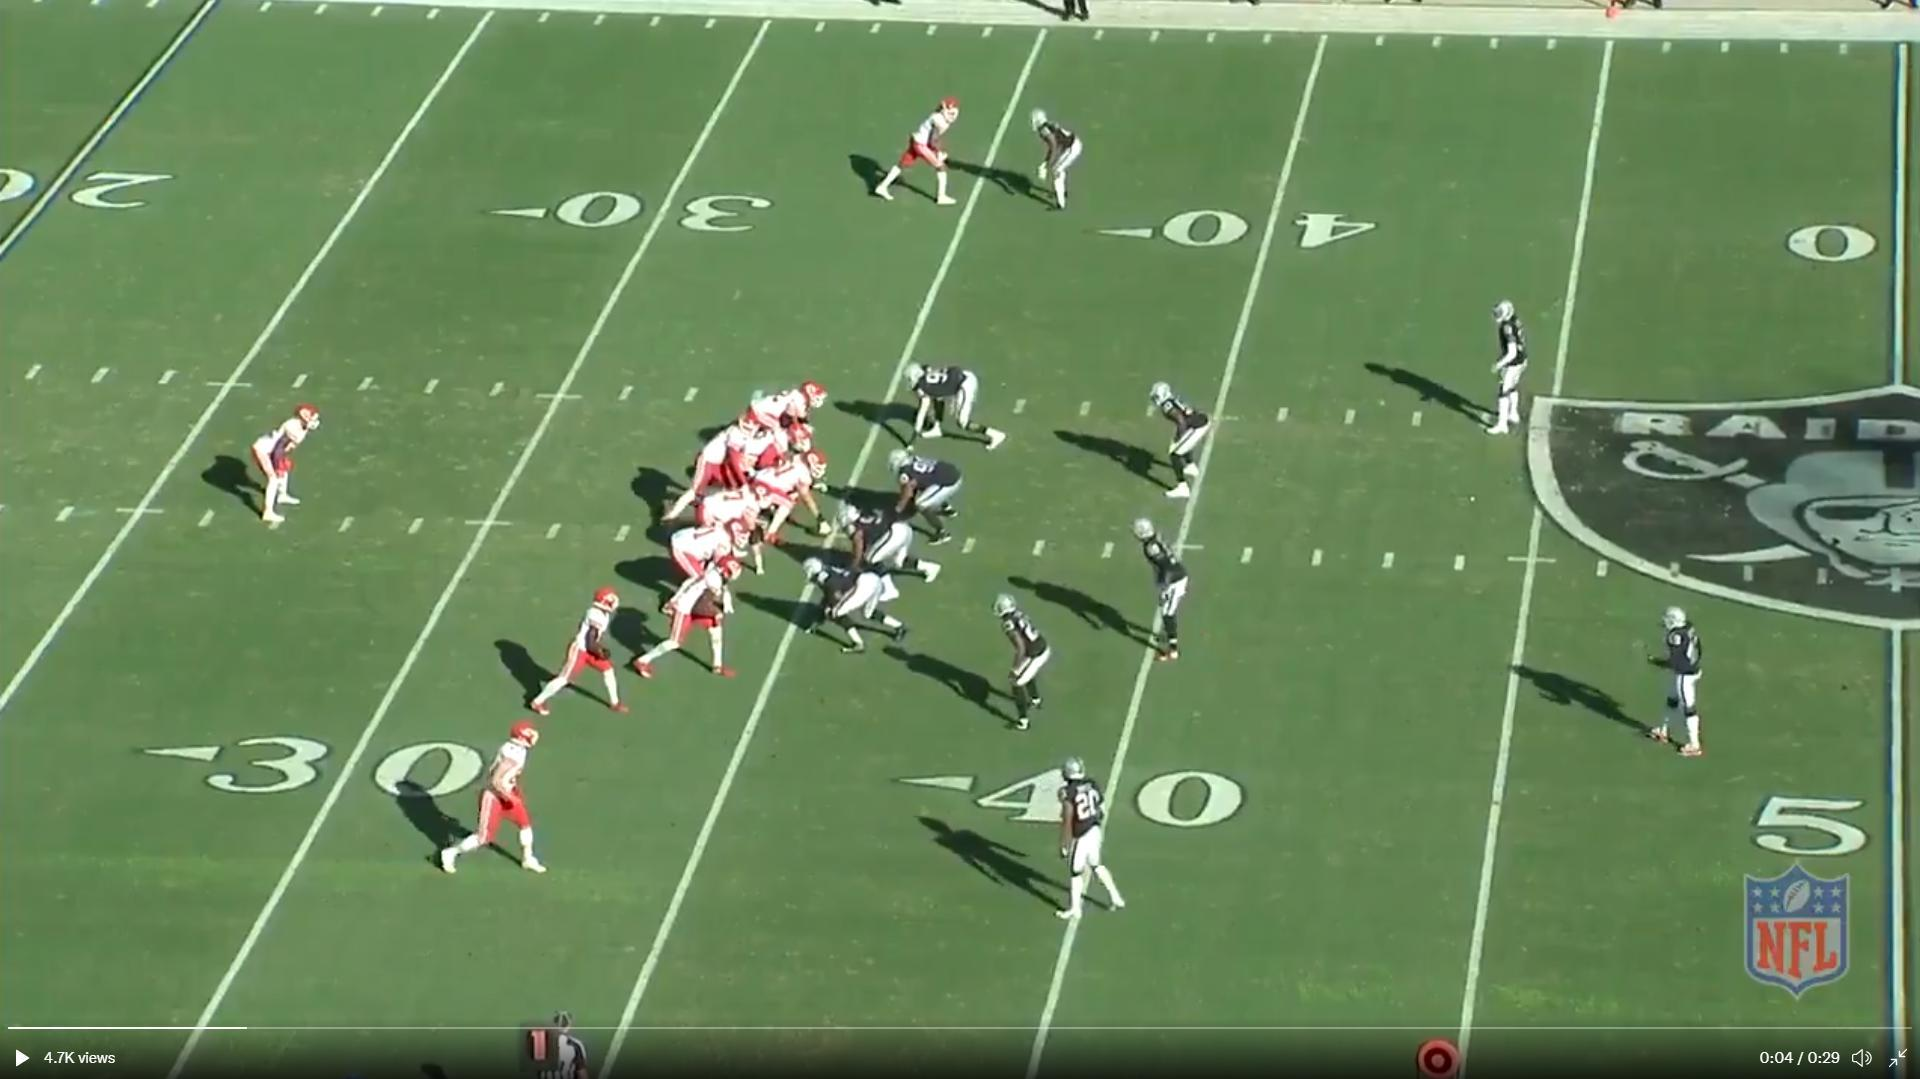defense: (1051, 751, 1133, 926), (802, 554, 916, 657), (1646, 605, 1712, 770), (831, 499, 939, 594), (902, 357, 1007, 454), (1135, 518, 1197, 673), (994, 588, 1058, 736), (1147, 376, 1212, 507), (1477, 298, 1532, 445), (881, 445, 961, 545), (1023, 103, 1087, 218)
oline: (752, 452, 841, 549), (699, 491, 778, 579), (749, 377, 833, 442), (663, 526, 746, 590), (745, 423, 810, 478)
qb: (670, 414, 753, 510), (712, 416, 762, 495)
ref: (535, 1025, 607, 1079)
skill: (433, 719, 553, 888), (526, 582, 630, 728), (630, 559, 737, 686), (870, 94, 972, 214), (248, 401, 327, 532)
